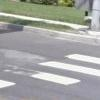Crosswalk: (13, 50, 100, 89)
